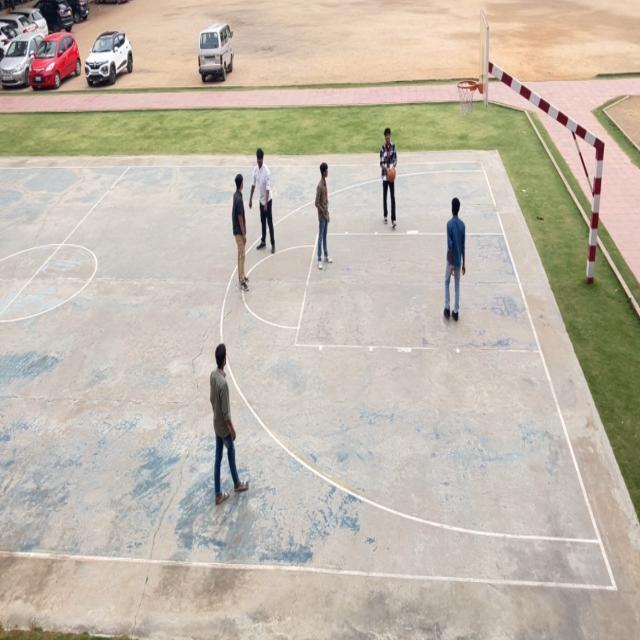basketball: (387, 168, 397, 184)
hoop: (457, 76, 478, 120)
